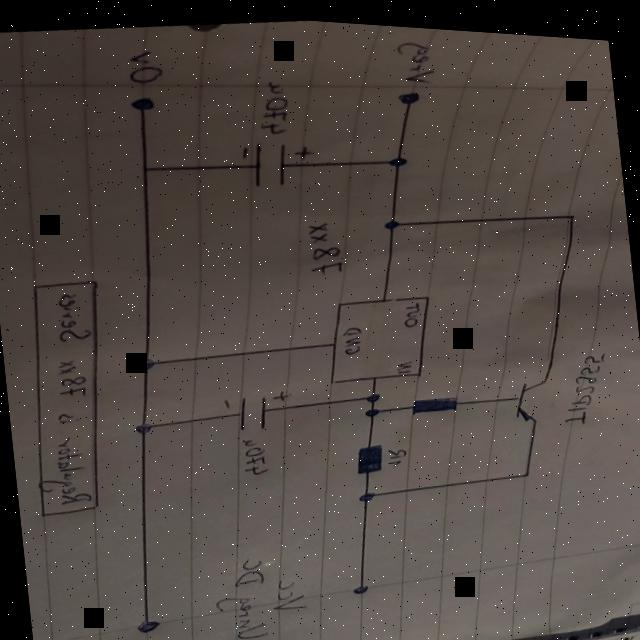capacitor: (238, 131, 316, 189), (220, 382, 296, 433)
junction: (385, 148, 410, 165), (132, 418, 155, 436), (134, 354, 156, 372), (381, 212, 402, 227), (356, 485, 377, 500), (362, 401, 382, 415), (363, 387, 382, 401), (138, 162, 154, 174), (564, 205, 578, 214), (519, 462, 532, 471)
resistor: (410, 387, 460, 413), (352, 436, 386, 472)
terminal: (128, 93, 156, 114), (397, 84, 422, 103), (136, 615, 160, 632), (350, 576, 371, 591)
text: (17, 287, 112, 508), (209, 550, 271, 640), (556, 341, 613, 422), (253, 74, 293, 135), (304, 215, 344, 274), (394, 33, 436, 82), (125, 45, 164, 85), (268, 572, 308, 611), (238, 433, 270, 476), (339, 319, 366, 353), (401, 294, 423, 323), (386, 441, 408, 463), (394, 354, 414, 371), (134, 635, 164, 640)
transistor: (509, 368, 554, 420)
